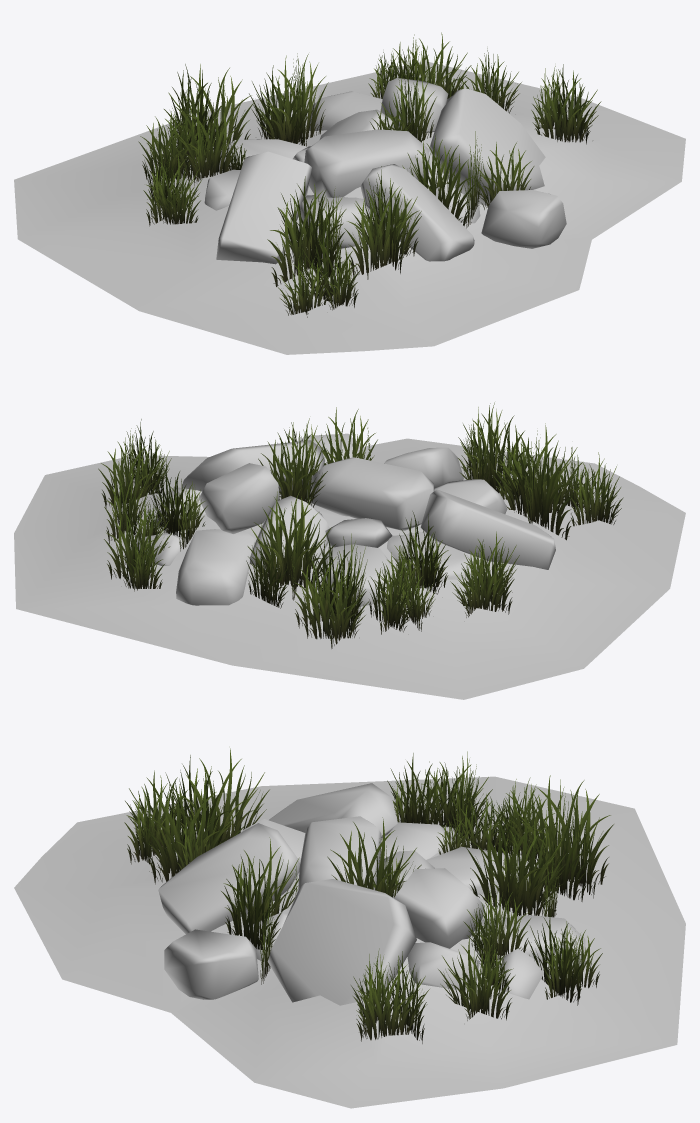
File: Soil_Bricks_Grass_05.fbx
The picture shows the model from 3 angles, top to bottom: view 1: azimuth 30°, elevation 25°; view 2: azimuth 150°, elevation 25°; view 3: azimuth 270°, elevation 25°; orthographic projection. The views are drawn at different scales.
Parts seen in each view (by area): view 1: Soil_Bricks_Grass_05_LOD0; view 2: Soil_Bricks_Grass_05_LOD0; view 3: Soil_Bricks_Grass_05_LOD0.
Boxes of the visible parts, left/top/right/bottom form: Soil_Bricks_Grass_05_LOD0: left=14, top=32, right=685, bottom=354; Soil_Bricks_Grass_05_LOD0: left=14, top=402, right=685, bottom=699; Soil_Bricks_Grass_05_LOD0: left=14, top=748, right=685, bottom=1108.
Size of what is drawn, in the model's own units: 10.17 by 2.28 by 8.7.
